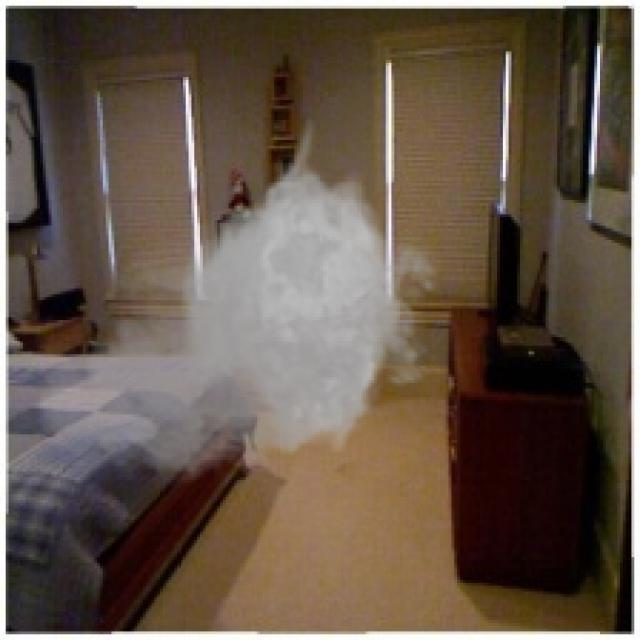Smoke: (31, 114, 452, 494)
